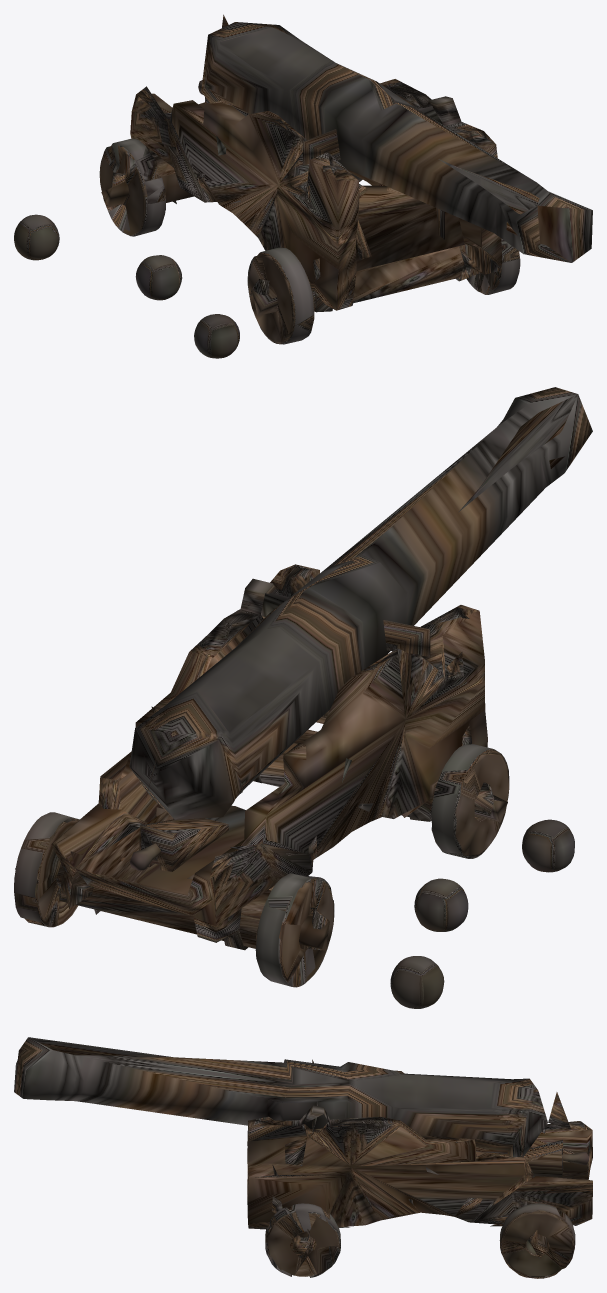
The model's file is cannon_01_lod2.glb.
3 views of the same model, one above another, from view 1: azimuth 30°, elevation 25°; view 2: azimuth 150°, elevation 25°; view 3: azimuth 270°, elevation 25° (orthographic). The views are drawn at different scales.
Parts seen in each view (by area): view 1: cannon_01_frame, cannon_01_barrel, cannon_01_wheel_02, cannon_01_wheel_01, cannon_01_ball_03, cannon_01_ball_02, cannon_01_ball_01, cannon_01_wheel_03; view 2: cannon_01_frame, cannon_01_barrel, cannon_01_wheel_01, cannon_01_wheel_02, cannon_01_wheel_04, cannon_01_pusherblock, cannon_01_ball_02, cannon_01_ball_03, cannon_01_ball_01; view 3: cannon_01_barrel, cannon_01_frame, cannon_01_wheel_04, cannon_01_wheel_03, cannon_01_pusherblock.
Part boxes in pixels (left/top/right/bottom): cannon_01_frame: left=101, top=79, right=502, bottom=315; cannon_01_barrel: left=201, top=14, right=592, bottom=262; cannon_01_wheel_02: left=99, top=138, right=165, bottom=236; cannon_01_wheel_01: left=247, top=247, right=314, bottom=344; cannon_01_ball_03: left=14, top=214, right=59, bottom=260; cannon_01_ball_02: left=135, top=255, right=182, bottom=300; cannon_01_ball_01: left=194, top=314, right=239, bottom=358; cannon_01_wheel_03: left=466, top=238, right=520, bottom=294; cannon_01_frame: left=15, top=564, right=507, bottom=950; cannon_01_barrel: left=129, top=387, right=592, bottom=819; cannon_01_wheel_01: left=431, top=744, right=509, bottom=858; cannon_01_wheel_02: left=255, top=873, right=334, bottom=987; cannon_01_wheel_04: left=14, top=812, right=79, bottom=927; cannon_01_pusherblock: left=130, top=818, right=228, bottom=871; cannon_01_ball_02: left=414, top=878, right=468, bottom=931; cannon_01_ball_03: left=390, top=956, right=444, bottom=1008; cannon_01_ball_01: left=522, top=819, right=574, bottom=872; cannon_01_barrel: left=14, top=1037, right=570, bottom=1157; cannon_01_frame: left=247, top=1070, right=592, bottom=1258; cannon_01_wheel_04: left=499, top=1203, right=575, bottom=1278; cannon_01_wheel_03: left=265, top=1203, right=340, bottom=1277; cannon_01_pusherblock: left=501, top=1139, right=588, bottom=1176.
Size of the model in its own units: 1.27 by 0.8364 by 2.3.
1 material, 1 textured.
